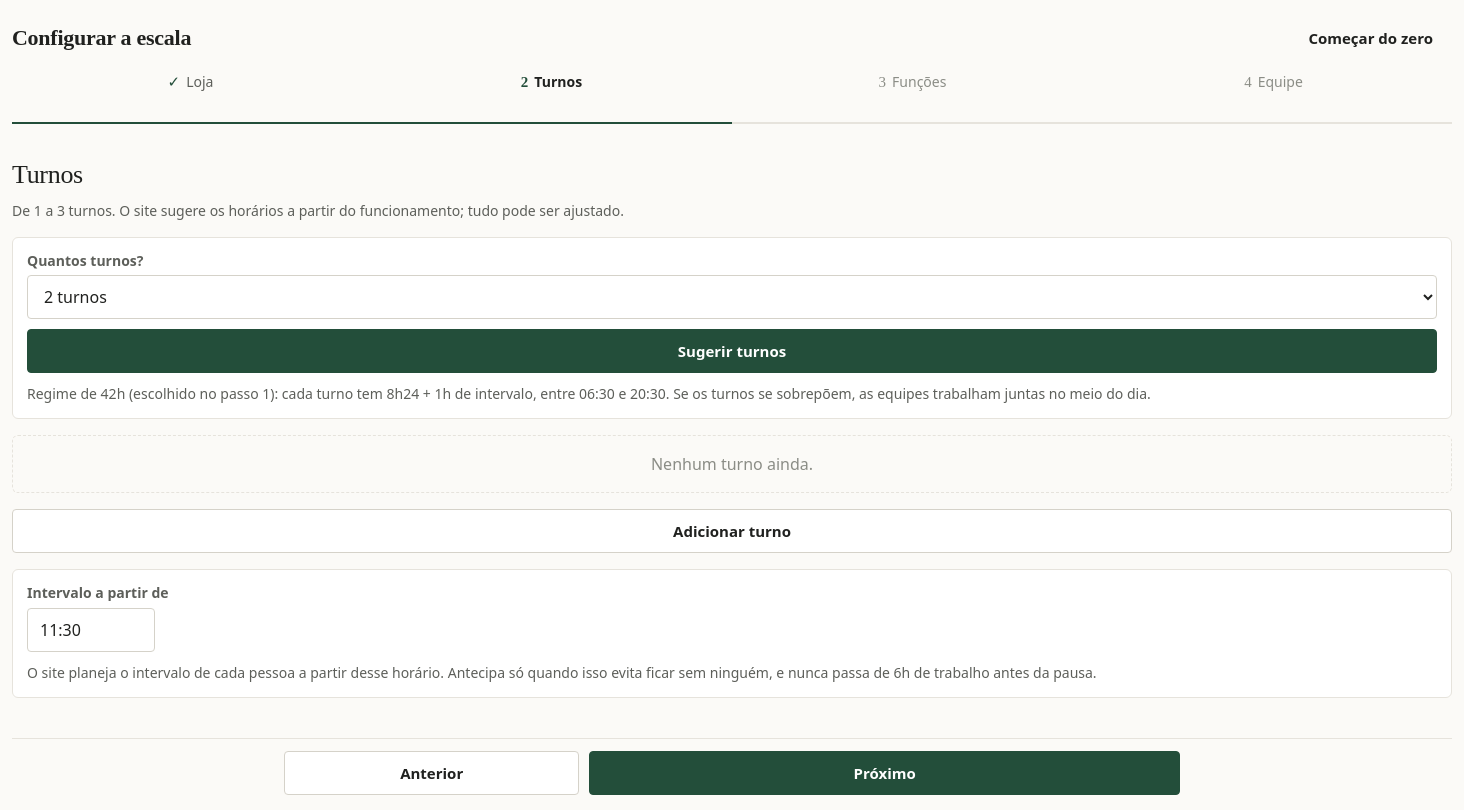
Test: SetupWizard › horários são digitados em 24h, sem AM/PM
Click the button "Sugerir turnos" at [732, 351], box left=27, top=329, right=1437, bottom=373
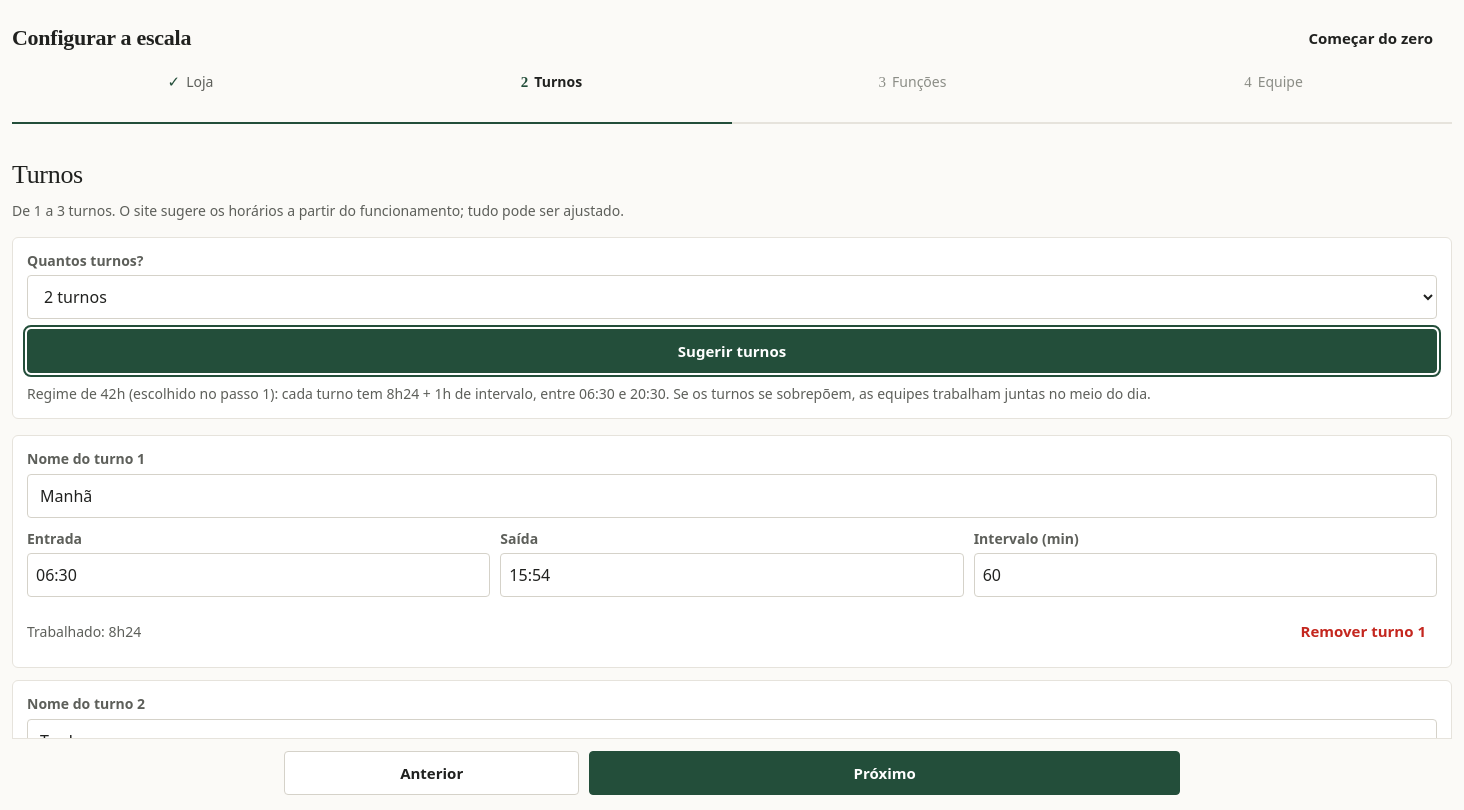
Replace the text in the field named "Turno 1: saída" with "1745" at [732, 575], box left=500, top=553, right=964, bottom=597
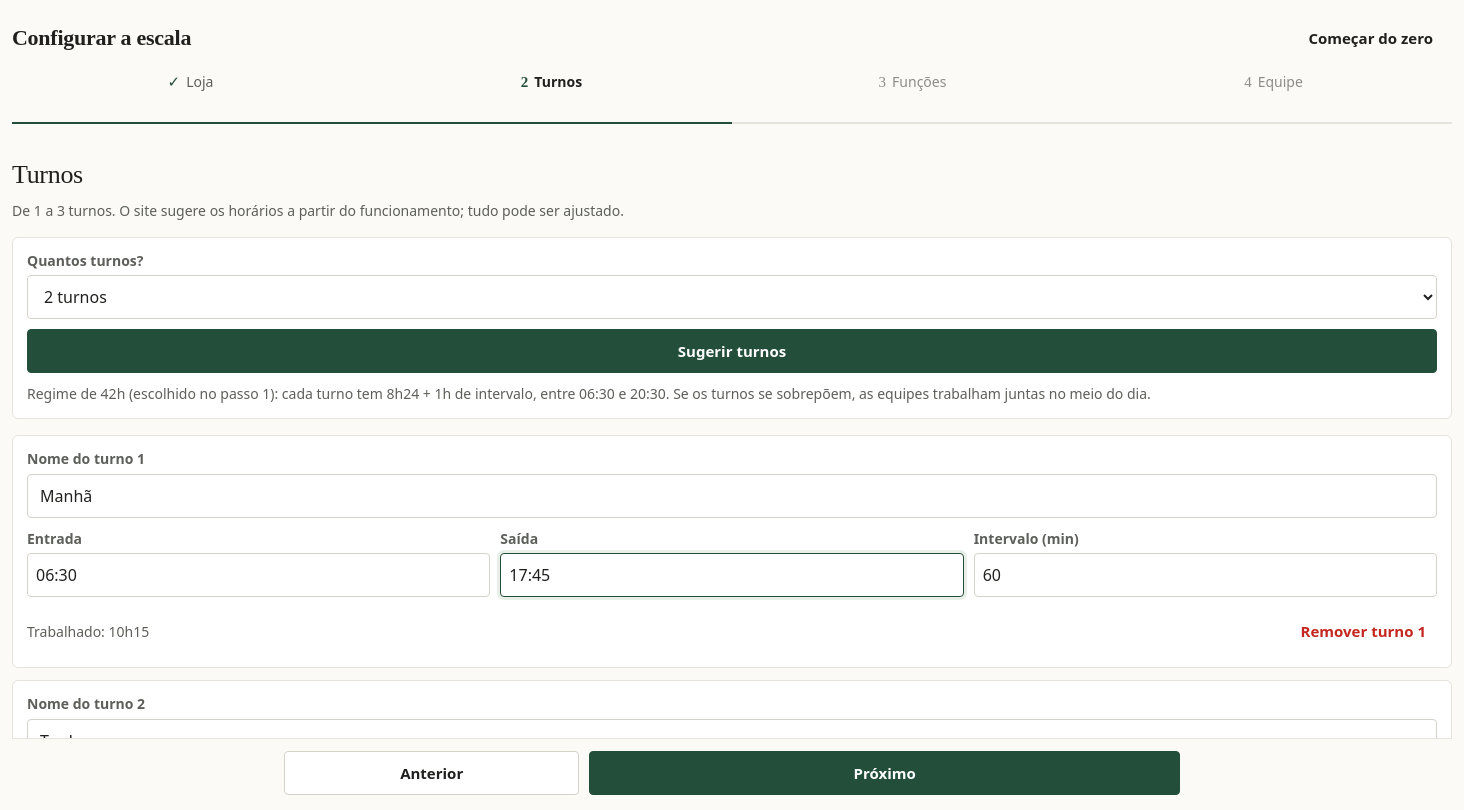
Expected: the field named "Turno 1: saída" holds "17:45", left=500, top=553, right=964, bottom=597
